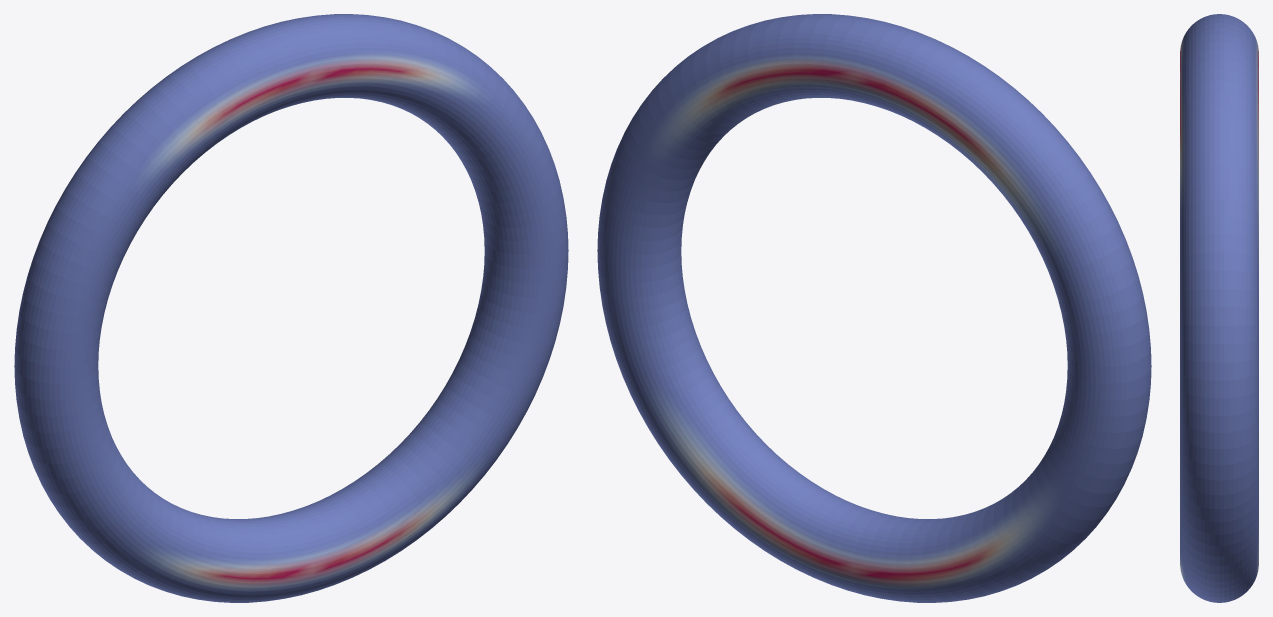
The picture shows the model from 3 angles, left to right: view 1: azimuth 30°, elevation 25°; view 2: azimuth 150°, elevation 25°; view 3: azimuth 270°, elevation 25°; orthographic projection. The views are drawn at different scales.
Parts seen in each view (by area): view 1: world; view 2: world; view 3: world.
Boxes of the visible parts, x1=… form: world: x1=14, y1=14, x2=568, y2=602; world: x1=597, y1=14, x2=1151, y2=602; world: x1=1180, y1=14, x2=1258, y2=602.
Size of the model in its own units: 16.93 by 16.93 by 2.26.
